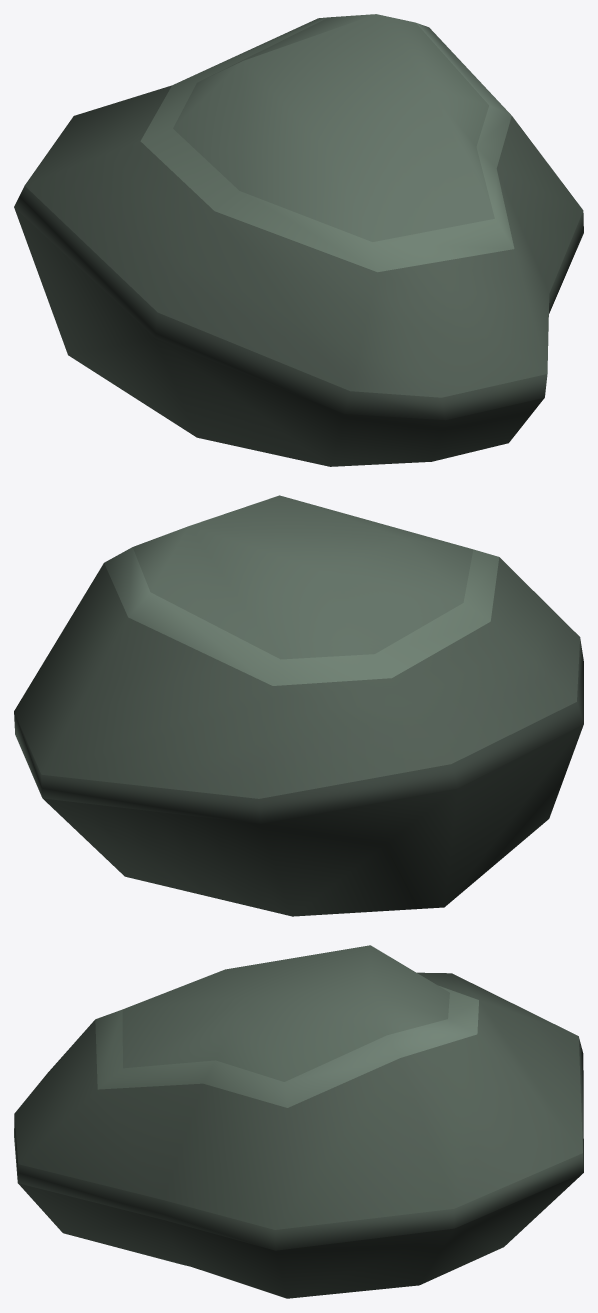
The model's file is stone_7.fbx.
The picture shows the model from 3 angles, top to bottom: view 1: azimuth 30°, elevation 25°; view 2: azimuth 150°, elevation 25°; view 3: azimuth 270°, elevation 25°; orthographic projection. The views are drawn at different scales.
Parts seen in each view (by area): view 1: stone_7; view 2: stone_7; view 3: stone_7.
Part boxes in pixels (x1,y1,x2,y2): stone_7: [14, 14, 583, 466]; stone_7: [14, 495, 583, 916]; stone_7: [14, 945, 583, 1298].
Size of the model in its own units: 44.27 by 30.65 by 52.35.
1 material, 1 textured.
